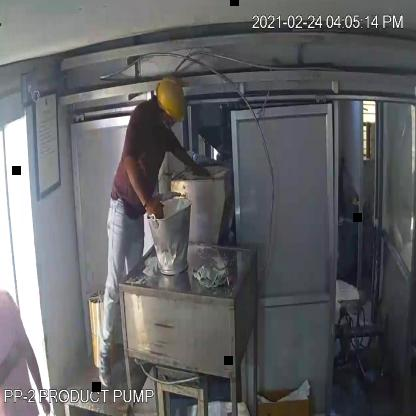helmet: (154, 72, 189, 124)
